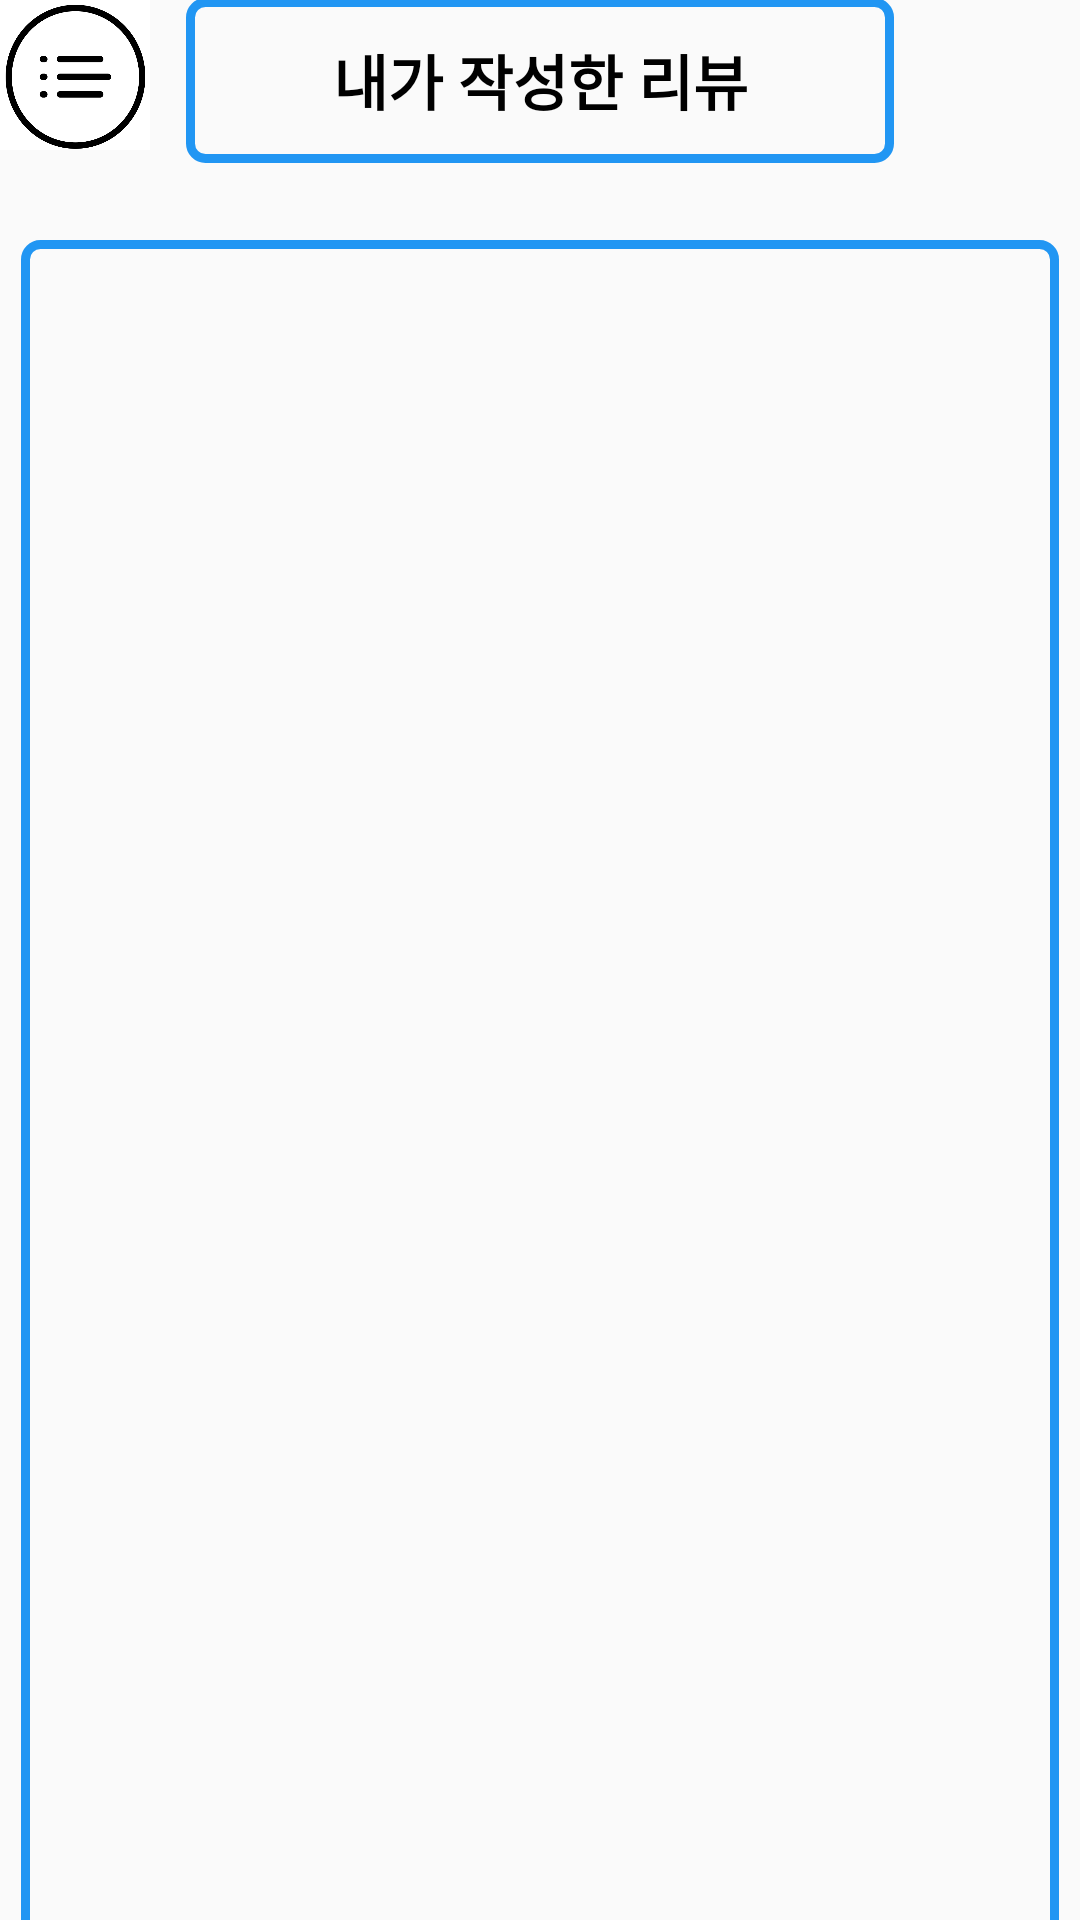

Icon bounding boxes for this 1080*1920 phone screenshot, format (x1, y1, x2, y2):
menu: (5, 5, 145, 149)
